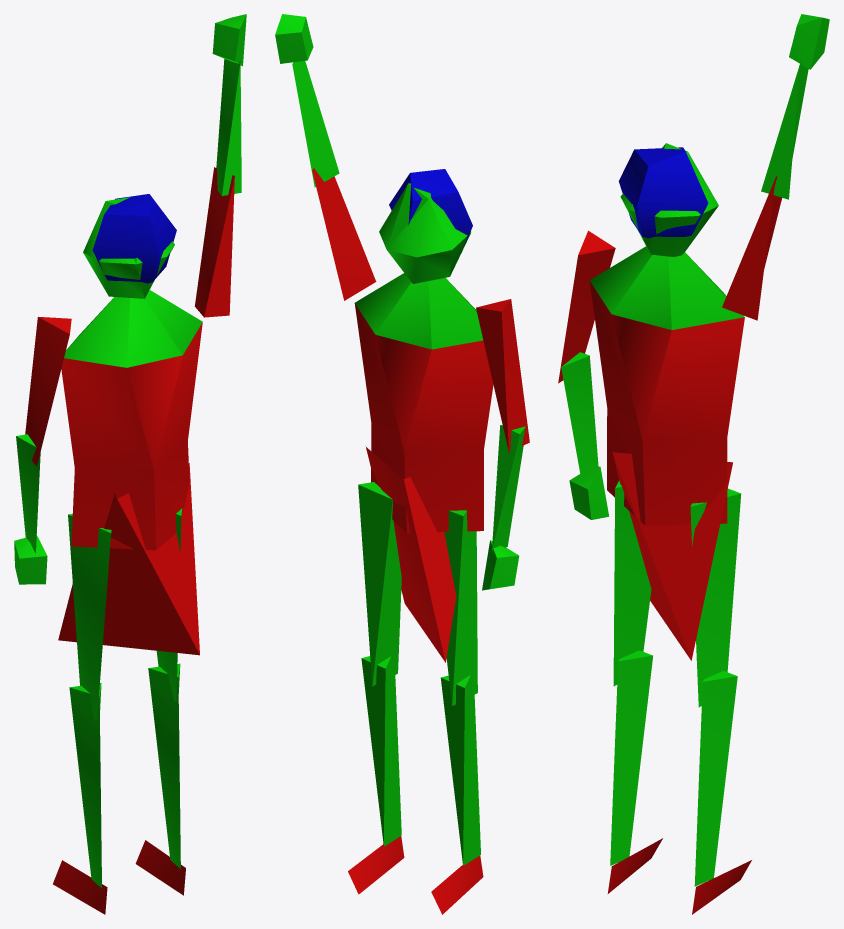
Rendered from stand_cheer_one_arm_lod2.glb.
The picture shows the model from 3 angles, left to right: view 1: azimuth 30°, elevation 25°; view 2: azimuth 150°, elevation 25°; view 3: azimuth 330°, elevation 25°; orthographic projection. The views are drawn at different scales.
Parts seen in each view (by area): view 1: OUT_2; view 2: OUT_2; view 3: OUT_2.
Part boxes in pixels (<box>): OUT_2: <box>14,14,246,914</box>; OUT_2: <box>275,14,529,914</box>; OUT_2: <box>558,14,829,914</box>.
Size of the model in its own units: 0.5927 by 2.04 by 0.2659.
